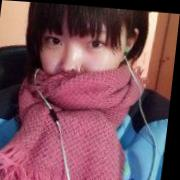WRONG: (33, 12, 132, 108)
